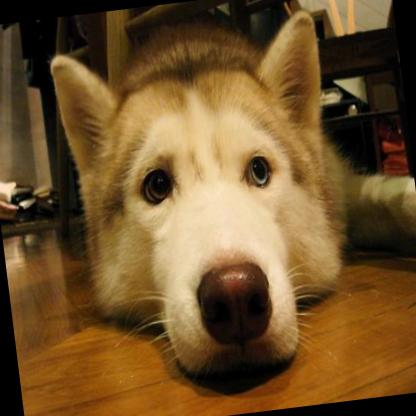Eskimo_dog: (45, 0, 361, 388)
